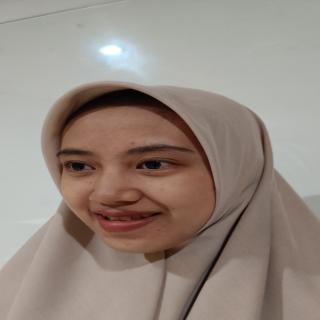Senang: (50, 98, 240, 260)
